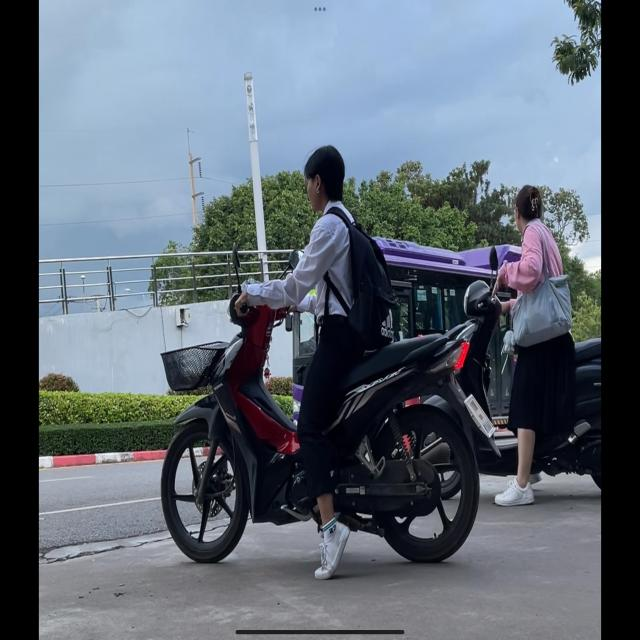seatbelt: (302, 145, 346, 212), (513, 184, 544, 235)
